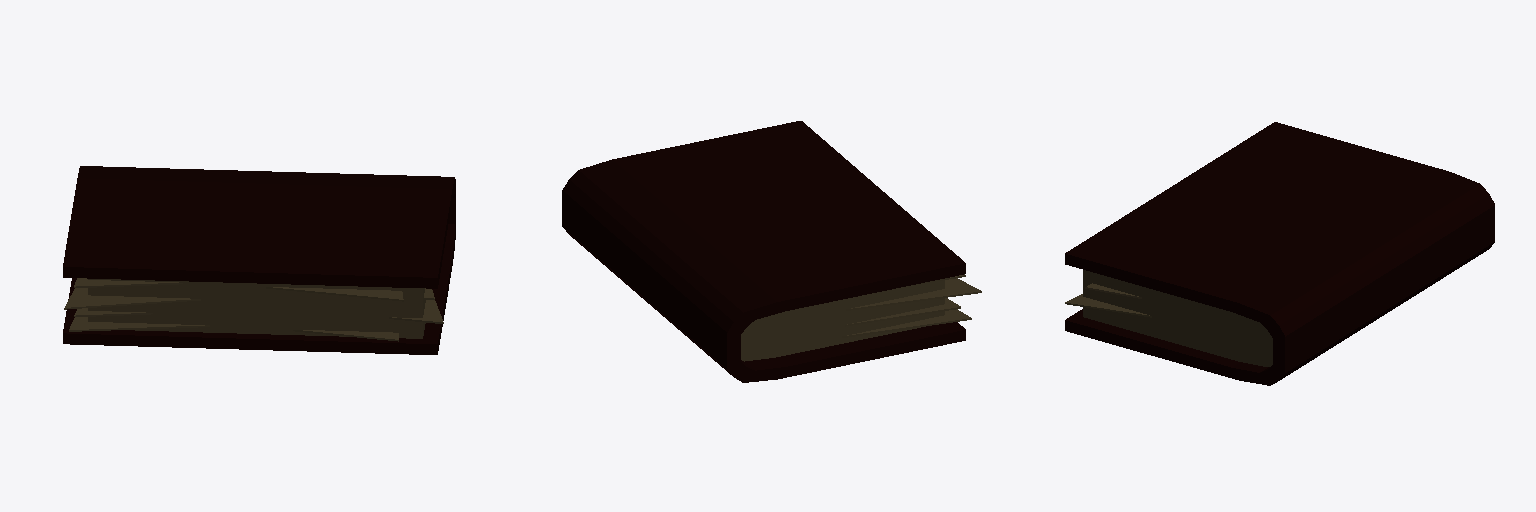
File: book.obj
3 renders of one model, left to right at view 1: azimuth 30°, elevation 25°; view 2: azimuth 150°, elevation 25°; view 3: azimuth 270°, elevation 25°, orthographic.
Parts seen in each view (by area): view 1: Book1_Closed_Cube.013; view 2: Book1_Closed_Cube.013; view 3: Book1_Closed_Cube.013.
Part boxes in pixels (bbox=[...]): Book1_Closed_Cube.013: bbox=[63, 166, 455, 354]; Book1_Closed_Cube.013: bbox=[562, 121, 981, 382]; Book1_Closed_Cube.013: bbox=[1065, 122, 1494, 385].
Size of the model in its own units: 0.9846 by 0.1796 by 0.9051.